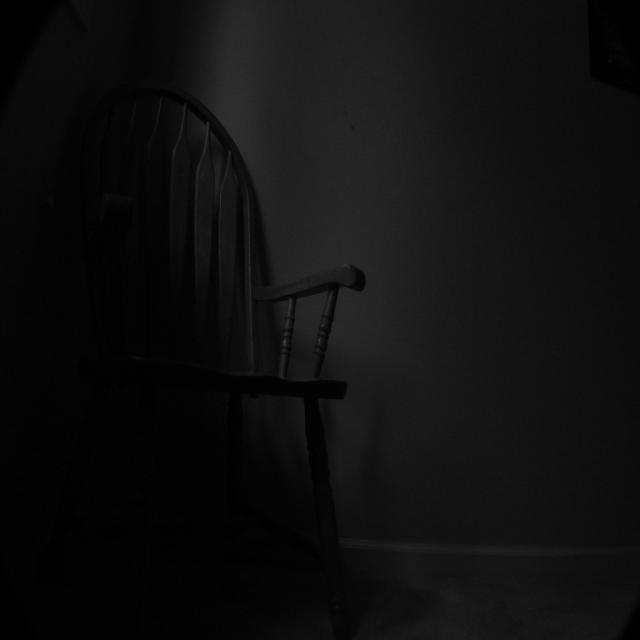chair: (8, 65, 393, 605)
